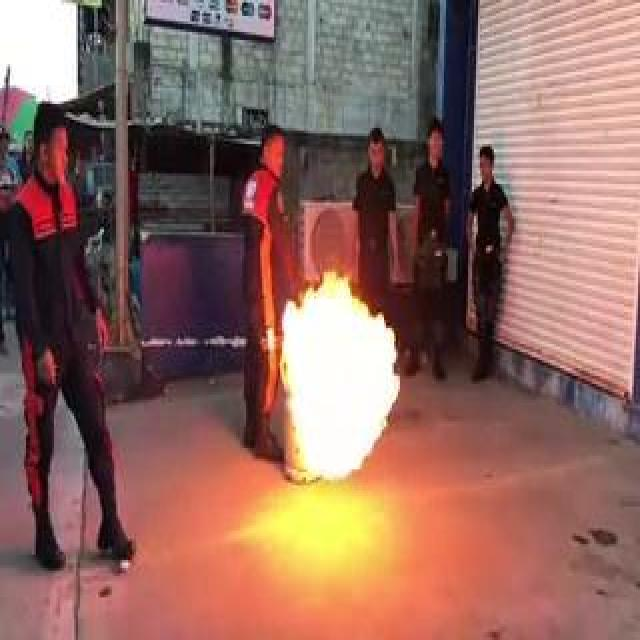Smoke: (281, 272, 399, 488)
